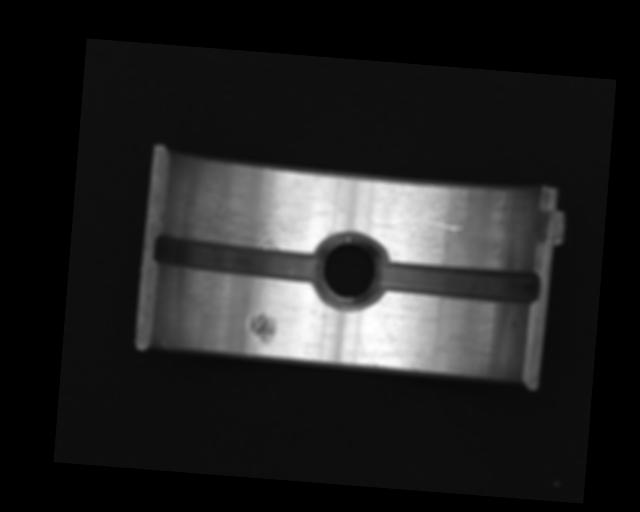bruise: (247, 310, 278, 346)
gap: (152, 232, 324, 284), (375, 256, 540, 305)
hole: (316, 230, 388, 313)
nick: (407, 217, 464, 231)
scratch: (168, 177, 326, 255)
